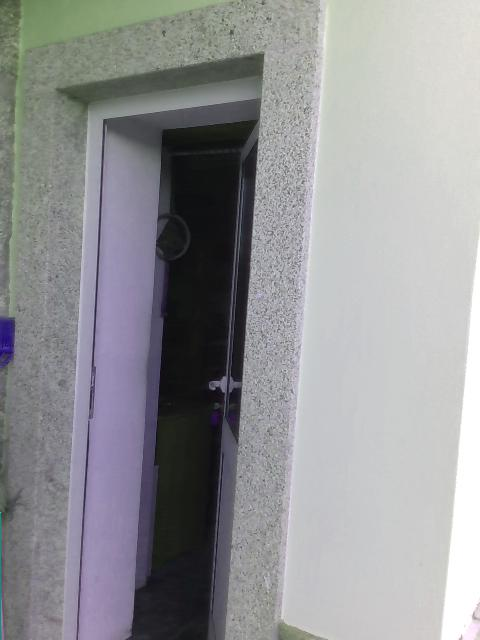semi_door: (71, 92, 262, 637)
